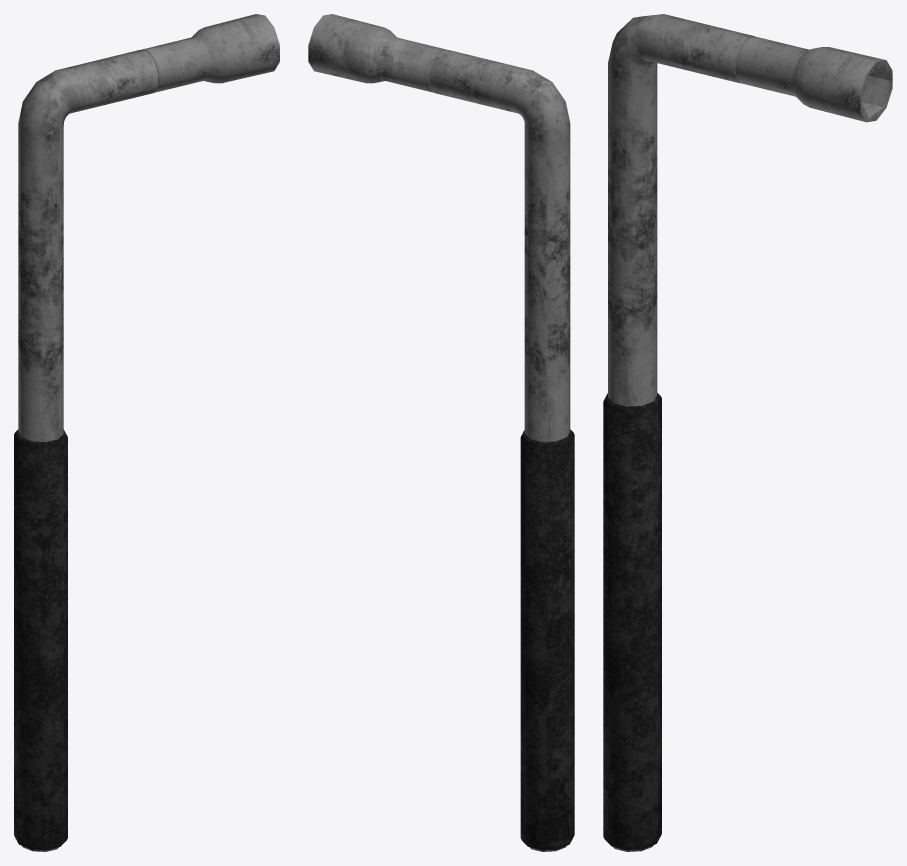
Rendered from mp_tireiron.glb.
The picture shows the model from 3 angles, left to right: view 1: azimuth 30°, elevation 25°; view 2: azimuth 150°, elevation 25°; view 3: azimuth 330°, elevation 25°; orthographic projection. The views are drawn at different scales.
Visible parts, largest first — view 1: Tire_Iron; view 2: Tire_Iron; view 3: Tire_Iron.
Boxes of the visible parts, left/top/right/bottom form: Tire_Iron: left=14, top=14, right=279, bottom=851; Tire_Iron: left=308, top=14, right=574, bottom=851; Tire_Iron: left=603, top=14, right=892, bottom=851.
Bounding box in the file's own units: 0.1843 × 0.55 × 0.0381.
Materials: 1 (1 with a texture image).
